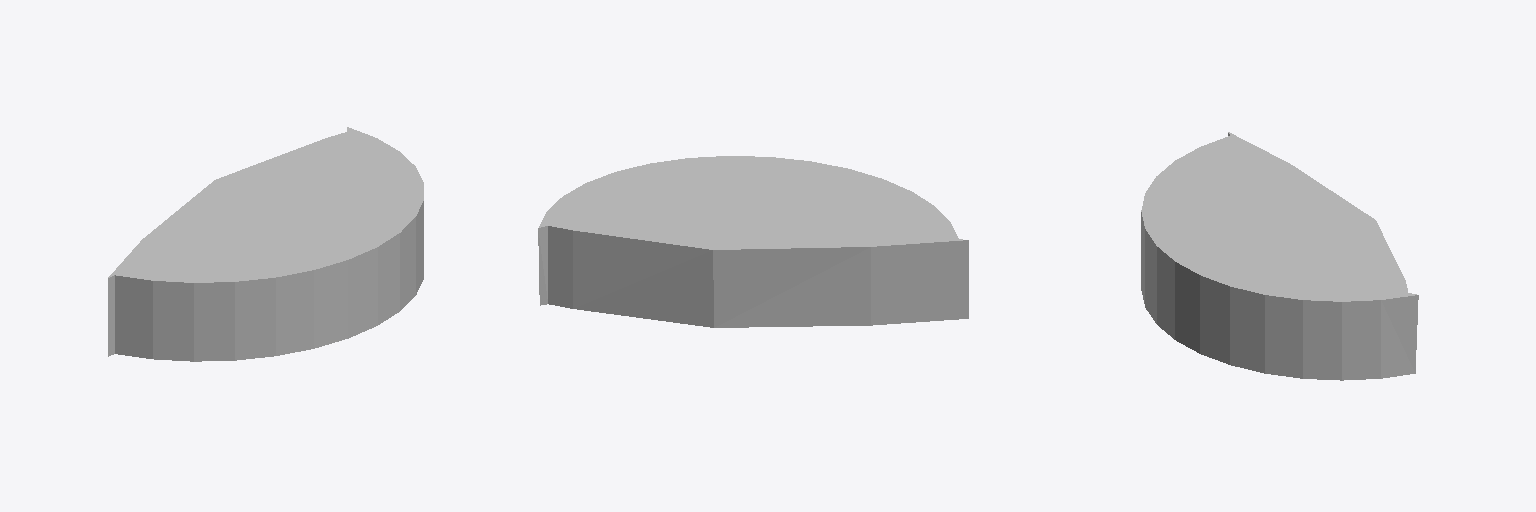
The model's file is waterSmall.obj.
3 views of the same model, side by side, from view 1: azimuth 30°, elevation 25°; view 2: azimuth 150°, elevation 25°; view 3: azimuth 270°, elevation 25° (orthographic).
Parts seen in each view (by area): view 1: waterSmall_Cylinder.006; view 2: waterSmall_Cylinder.006; view 3: waterSmall_Cylinder.006.
Part boxes in pixels (bbox=[...]): waterSmall_Cylinder.006: bbox=[108, 127, 423, 361]; waterSmall_Cylinder.006: bbox=[538, 156, 968, 327]; waterSmall_Cylinder.006: bbox=[1141, 132, 1418, 380].
Bounding box in the file's own units: 67.73 × 14.58 × 46.57.